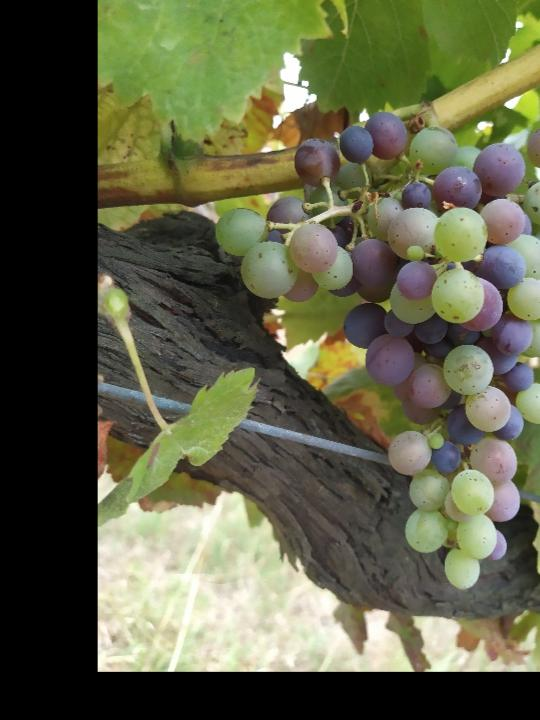grape: (213, 109, 540, 593)
